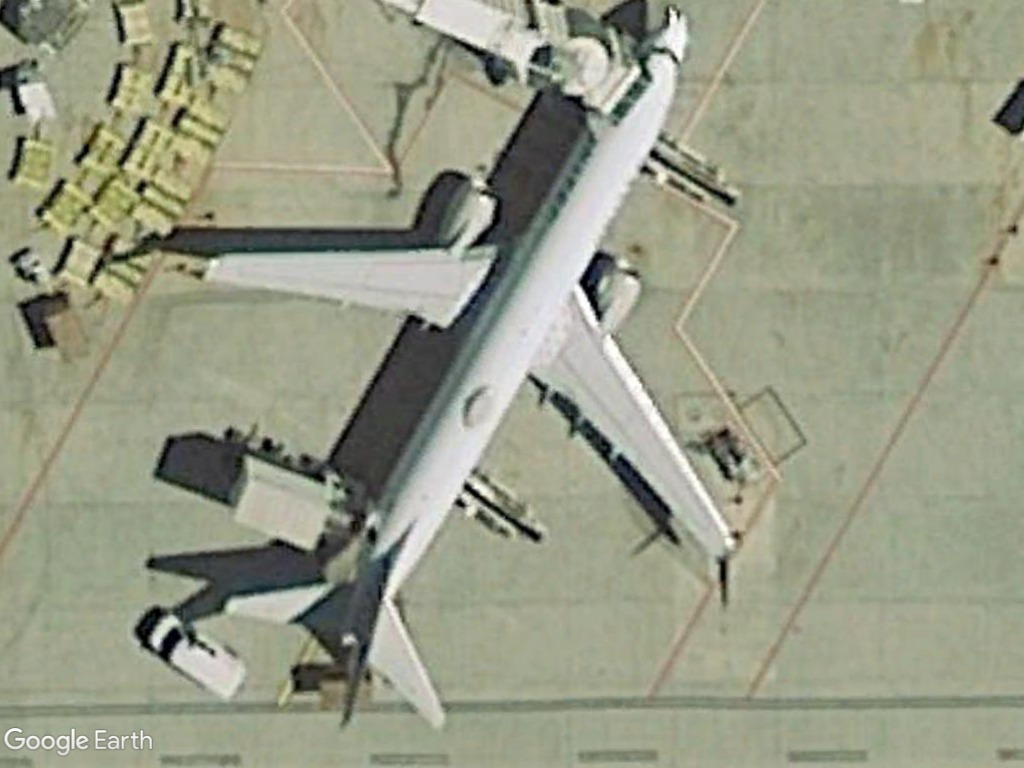airliner: (182, 12, 741, 731)
van: (140, 611, 253, 709)
